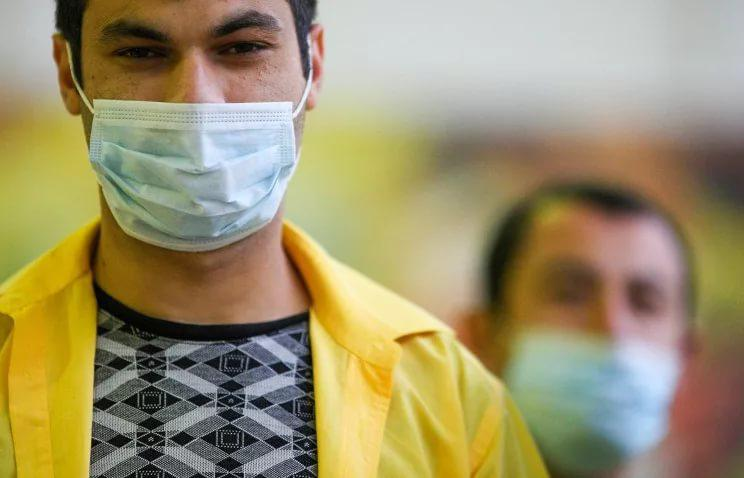mask: (82, 1, 306, 250), (500, 199, 686, 448)
